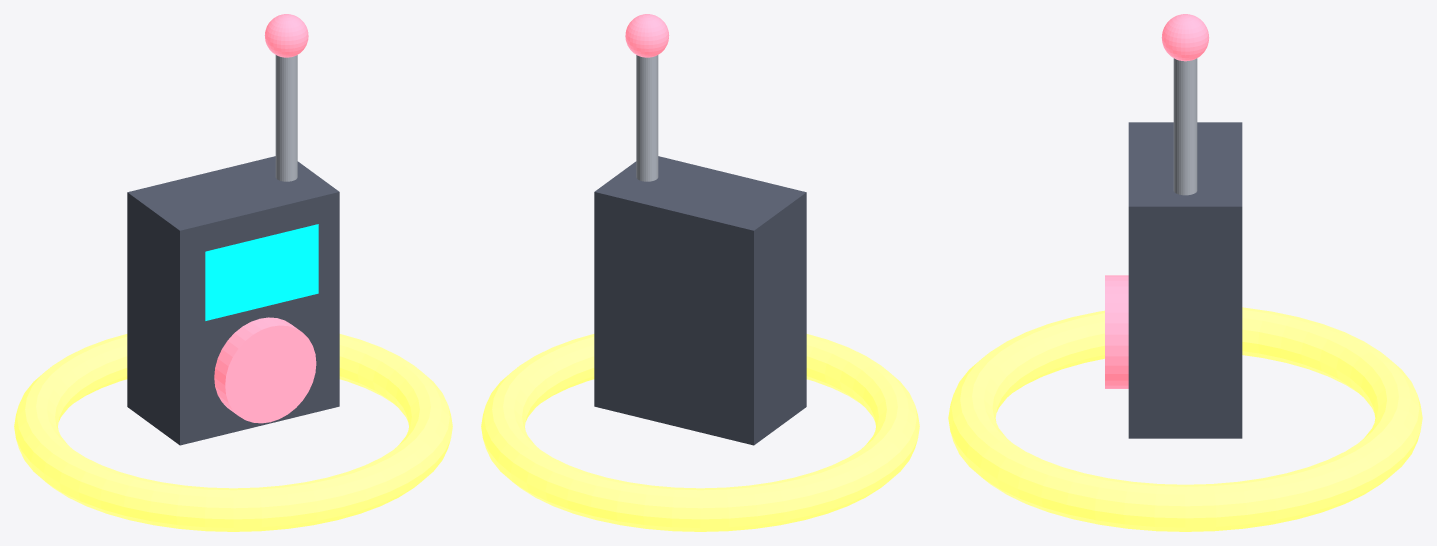
The model's file is powerup-remote.glb.
3 views of the same model, side by side, from view 1: azimuth 30°, elevation 25°; view 2: azimuth 150°, elevation 25°; view 3: azimuth 270°, elevation 25° (orthographic). The views are drawn at different scales.
Parts seen in each view (by area): view 1: Cube, Torus, Cylinder, Plane, Cylinder.001, Sphere; view 2: Cube, Torus, Cylinder.001, Sphere; view 3: Torus, Cube, Cylinder.001, Cylinder, Sphere.
Part boxes in pixels (<box>): Cube: <box>127,156,339,445</box>; Torus: <box>14,334,452,531</box>; Cylinder: <box>214,317,316,423</box>; Plane: <box>205,224,318,320</box>; Cylinder.001: <box>275,55,297,181</box>; Sphere: <box>264,14,308,57</box>; Cube: <box>594,156,806,445</box>; Torus: <box>481,334,919,531</box>; Cylinder.001: <box>636,55,658,181</box>; Sphere: <box>625,14,669,57</box>; Torus: <box>948,307,1422,531</box>; Cube: <box>1128,122,1242,438</box>; Cylinder.001: <box>1173,58,1197,195</box>; Cylinder: <box>1105,275,1128,388</box>; Sphere: <box>1161,14,1209,61</box>.
Size of the model in its own units: 1 by 1.05 by 1.
